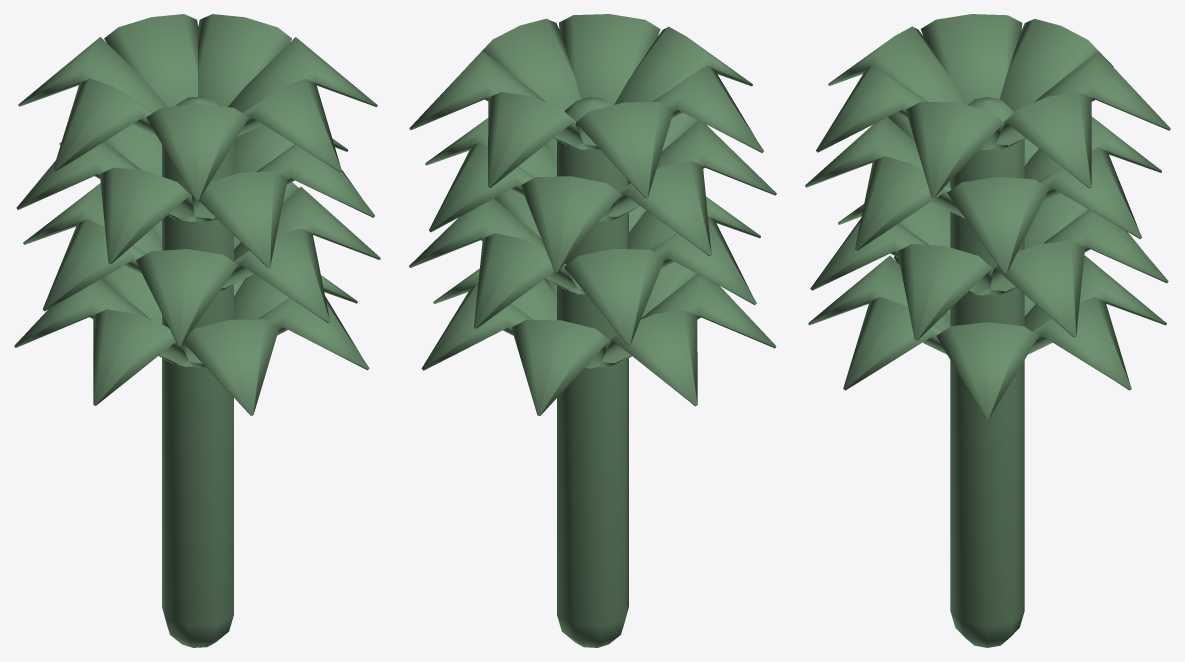
File: org_horsetail.glb
3 renders of one model, left to right at view 1: azimuth 30°, elevation 25°; view 2: azimuth 150°, elevation 25°; view 3: azimuth 270°, elevation 25°, orthographic.
Parts seen in each view (by area): view 1: Foliage, Trunk; view 2: Foliage, Trunk; view 3: Foliage, Trunk.
Part boxes in pixels (<box>): Foliage: <box>14,14,380,415</box>; Trunk: <box>162,96,233,647</box>; Foliage: <box>409,14,776,415</box>; Trunk: <box>557,97,628,647</box>; Foliage: <box>805,14,1170,419</box>; Trunk: <box>950,97,1024,647</box>.
Bounding box in the file's own units: 0.6258 × 1.1 × 0.6227.
